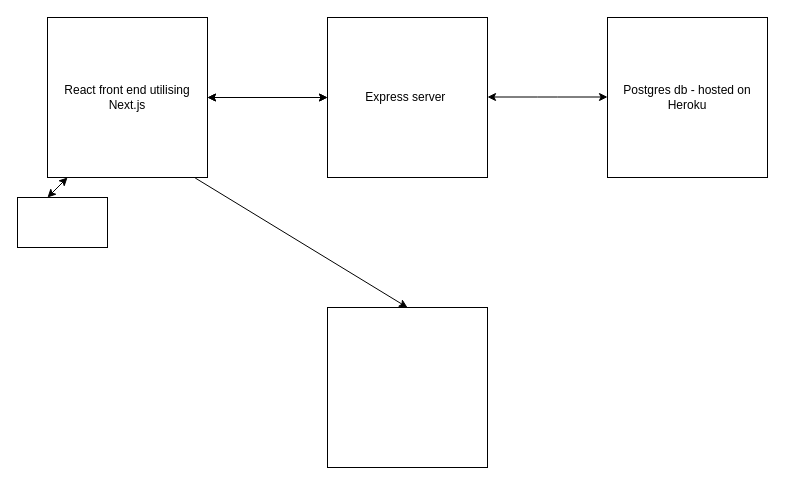
The diagram is 785 pixels wide and 485 high, and some of its shapes have lost their labels. The centre of each missing label's shape, as x and y in pixels:
"Firebase authentication" goes at point (62, 222).
"Google forms PUT request send" goes at point (407, 387).
